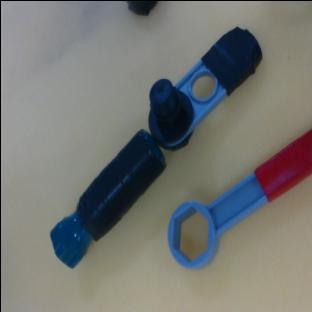part_1_bad: (126, 8, 271, 157)
part_2_bad: (38, 126, 174, 271)
part_3_bad: (125, 1, 156, 15)
